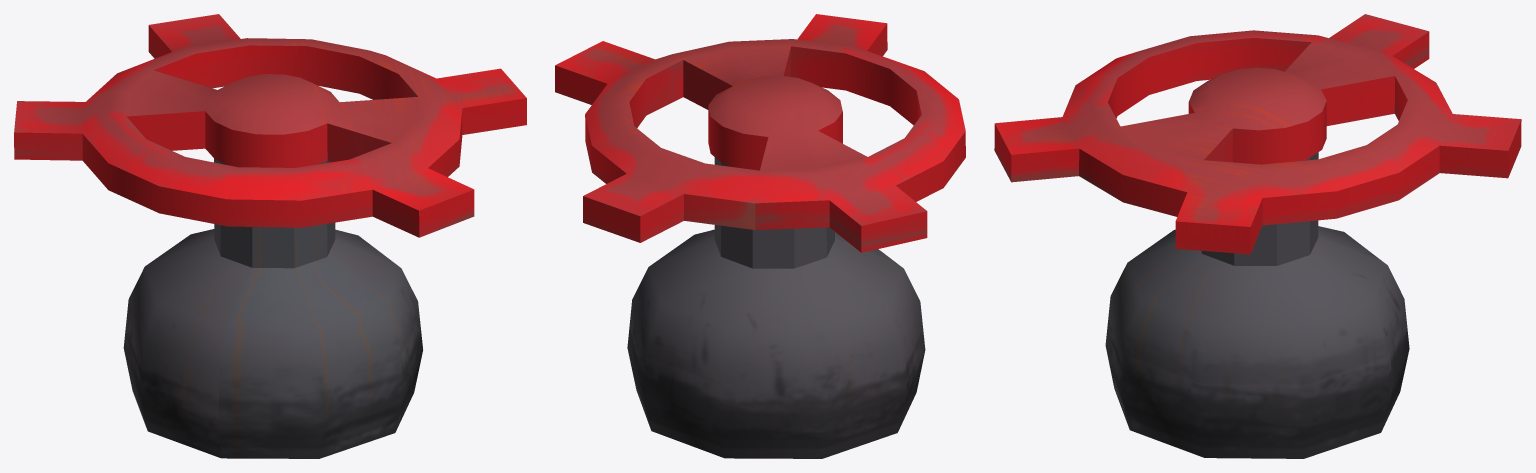
File: Valve.FBX
The picture shows the model from 3 angles, left to right: view 1: azimuth 30°, elevation 25°; view 2: azimuth 150°, elevation 25°; view 3: azimuth 270°, elevation 25°; orthographic projection. The views are drawn at different scales.
Visible parts, largest first — view 1: Valve; view 2: Valve; view 3: Valve.
Part boxes in pixels (x1,y1,x2,y2): Valve: [14, 14, 526, 458]; Valve: [555, 14, 965, 458]; Valve: [994, 14, 1521, 458].
Bounding box in the file's own units: 0.2286 × 0.2387 × 0.1567.
